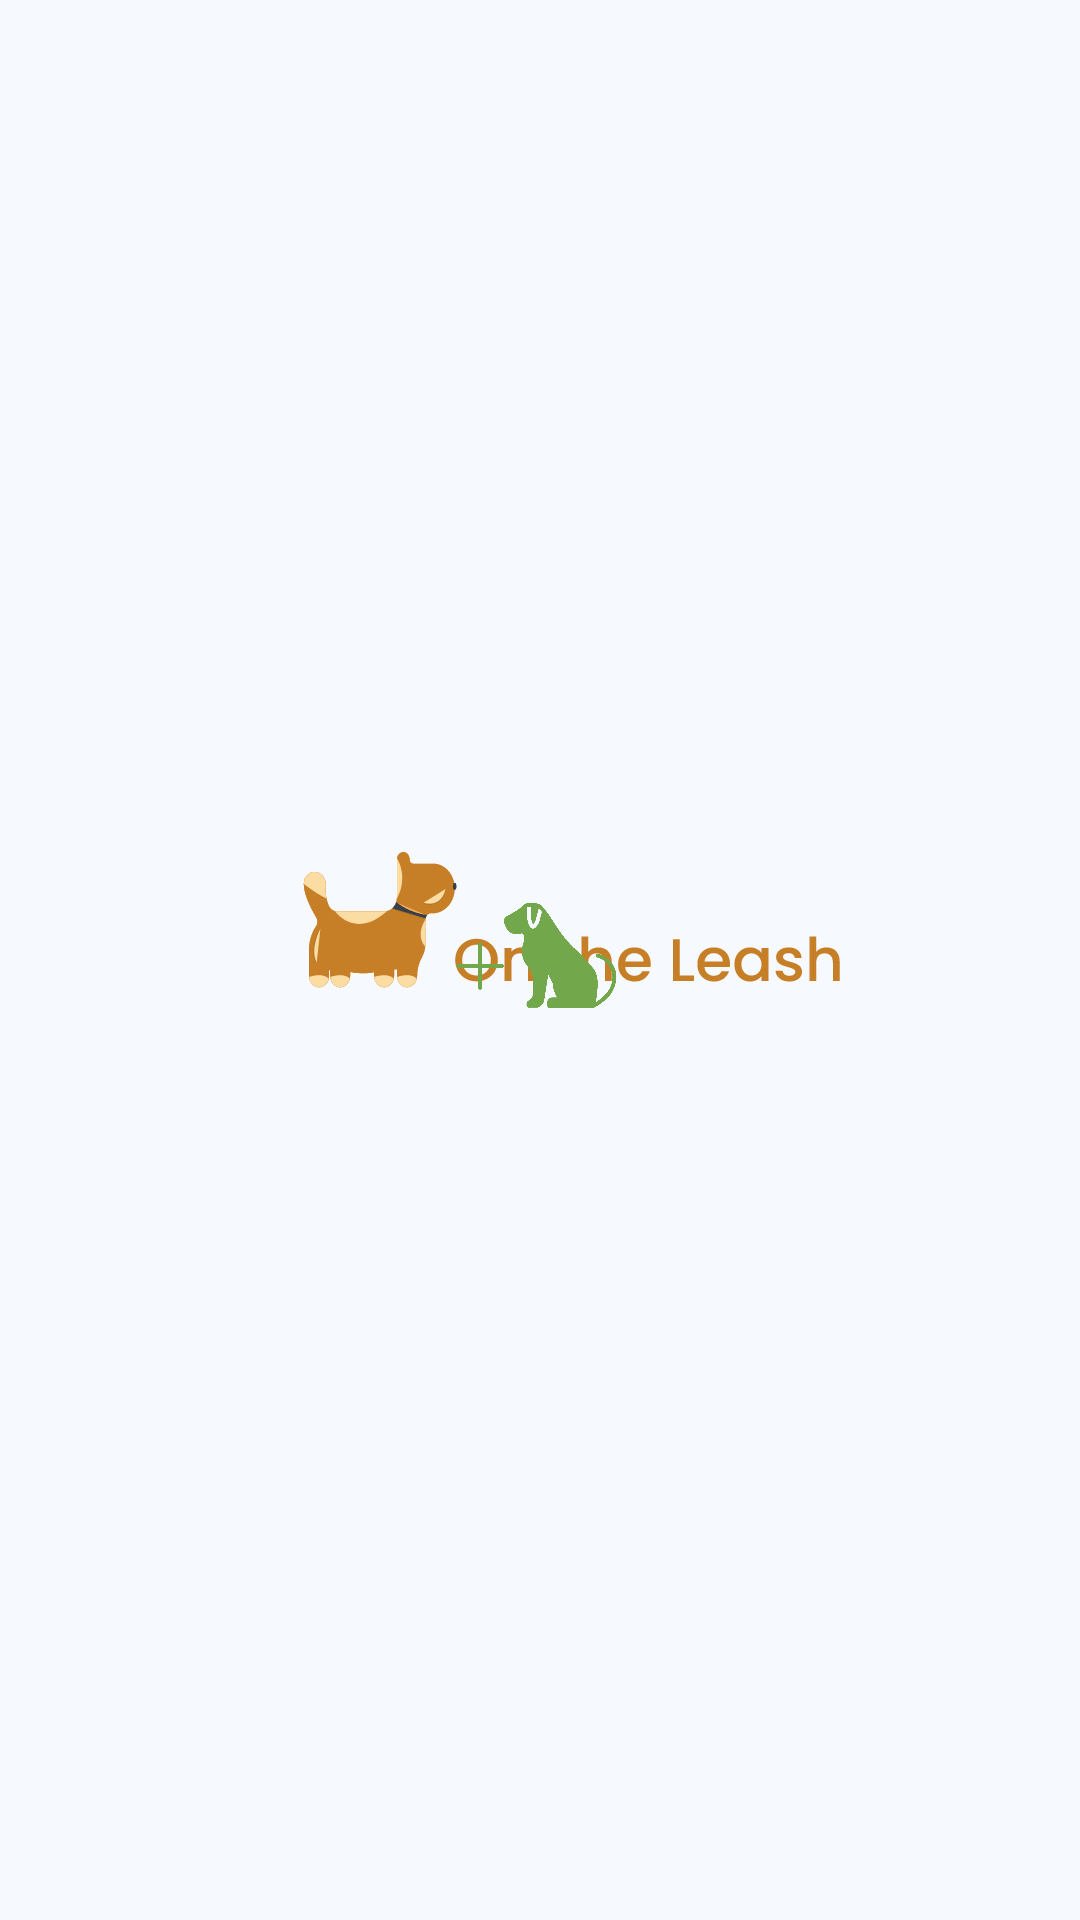

Icons on this 1080w x 1920h Android screen, each with its box as (x1, y1, x2, y2):
plus dog: (455, 903, 616, 1008)
